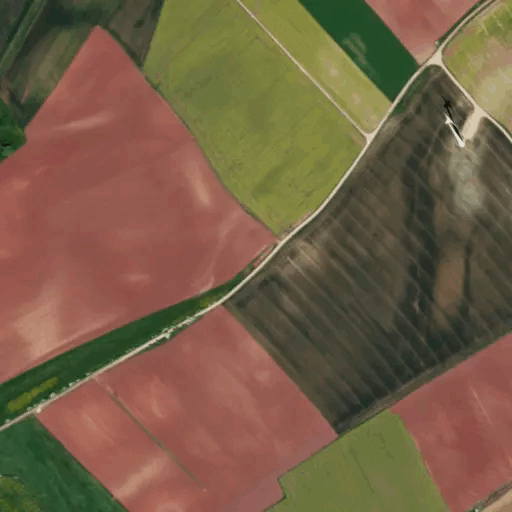wt: (431, 85, 474, 158)
